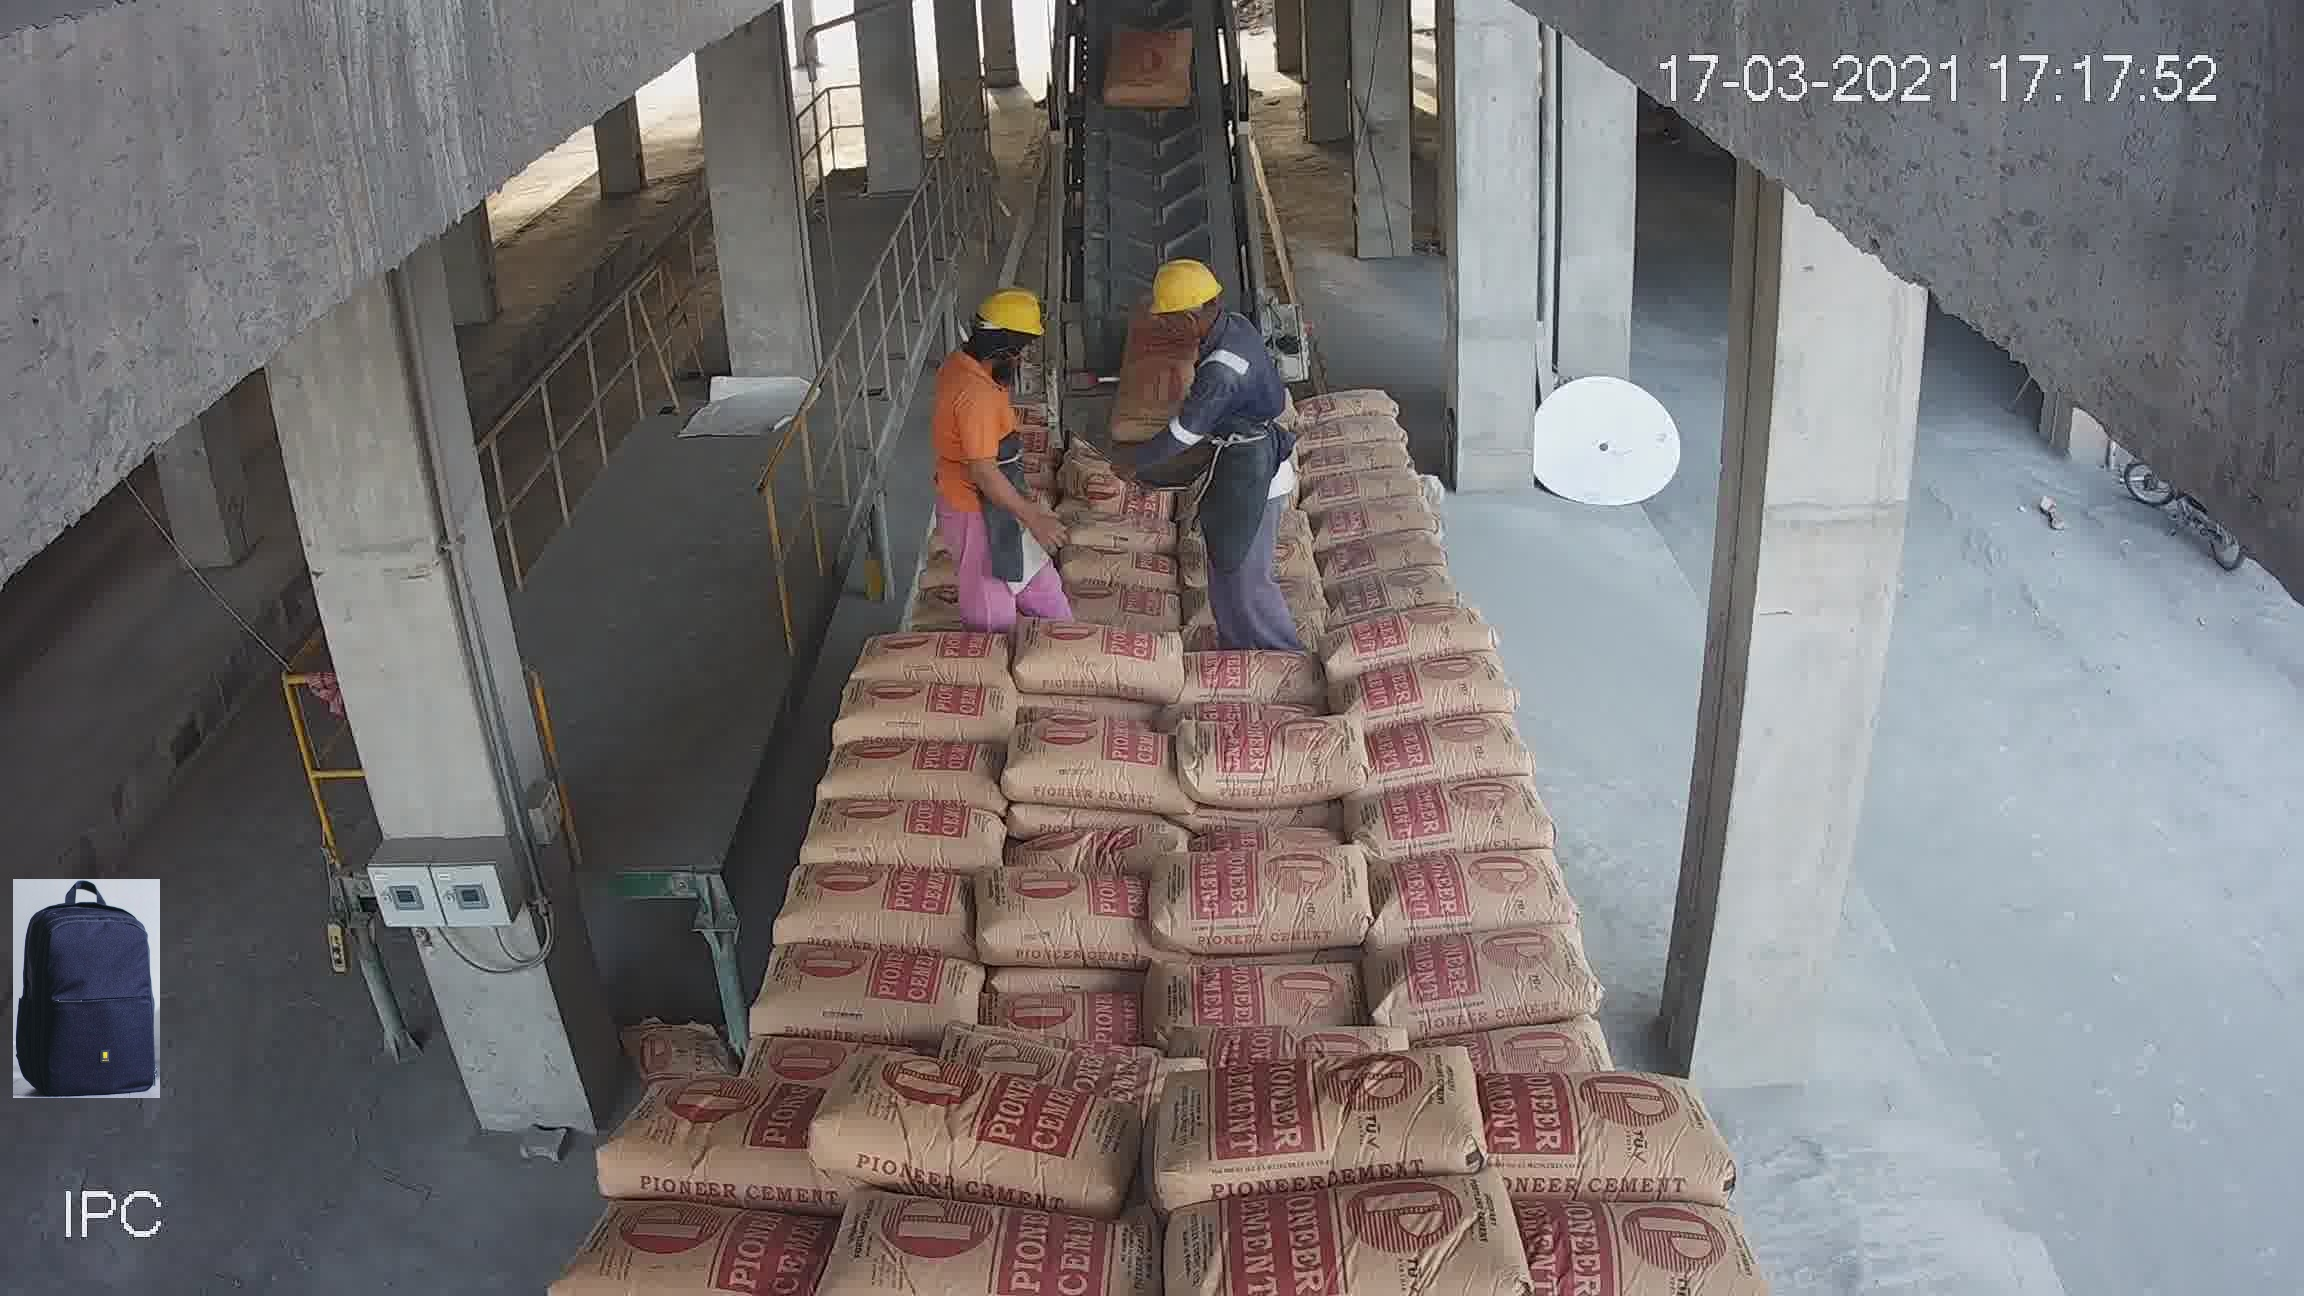bag: (1100, 25, 1199, 104)
bag_h: (798, 1048, 1108, 1226), (1180, 1055, 1521, 1203), (1165, 1180, 1511, 1293), (821, 1188, 1185, 1294), (592, 1086, 831, 1223), (1473, 1078, 1719, 1199), (1491, 1180, 1749, 1294), (574, 1196, 870, 1290), (1377, 921, 1606, 1033), (745, 945, 995, 1048), (775, 851, 980, 956), (964, 869, 1166, 968), (1160, 862, 1378, 953), (1367, 848, 1575, 943), (1353, 771, 1554, 861), (796, 796, 1022, 870), (1157, 962, 1362, 1041), (999, 715, 1180, 801), (1184, 725, 1370, 805), (1351, 709, 1533, 791), (818, 734, 1006, 807), (983, 1033, 1179, 1103), (1002, 820, 1185, 892), (1332, 654, 1518, 725), (1321, 604, 1502, 677), (1019, 630, 1188, 707), (989, 975, 1150, 1048), (836, 684, 1008, 748), (853, 623, 1013, 692), (1427, 1024, 1608, 1082), (1173, 646, 1329, 706), (1305, 563, 1470, 611), (1320, 494, 1446, 551), (1320, 527, 1453, 581), (1041, 589, 1192, 635), (1052, 548, 1174, 600), (1059, 513, 1169, 562), (1302, 473, 1434, 510), (1293, 381, 1407, 423), (1288, 411, 1407, 449), (1301, 445, 1416, 476)
belt: (1035, 33, 1264, 418)
